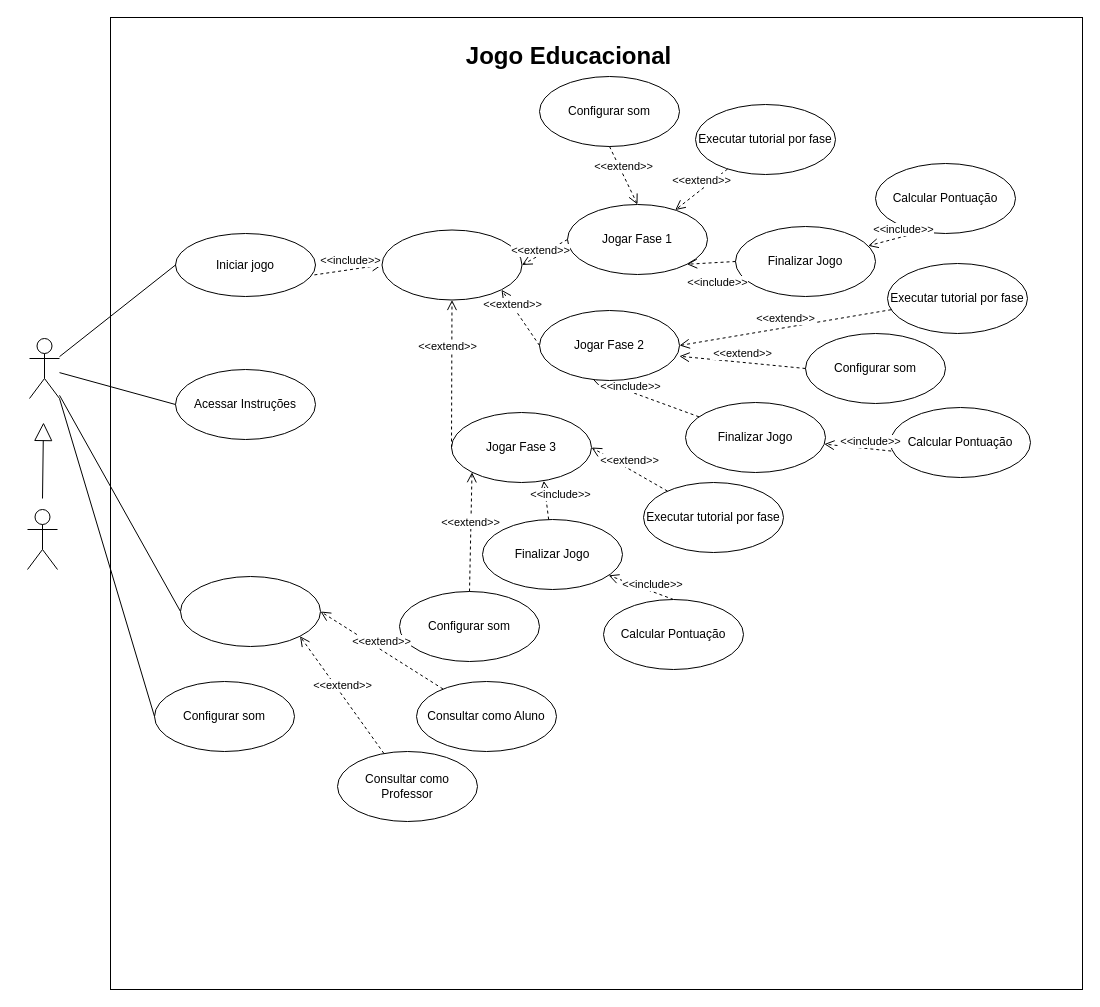
Image size: 1100x1007. Some labels were removed from this diagram. Each missing label, with the centre of its shape:
"Aluno" belongs at pixel 44 368.
"Consultar Relatório Pontuação e Erros" belongs at pixel 250 611.
"Escolher fases" belongs at pixel 451 264.
"Professor" belongs at pixel 42 539.
